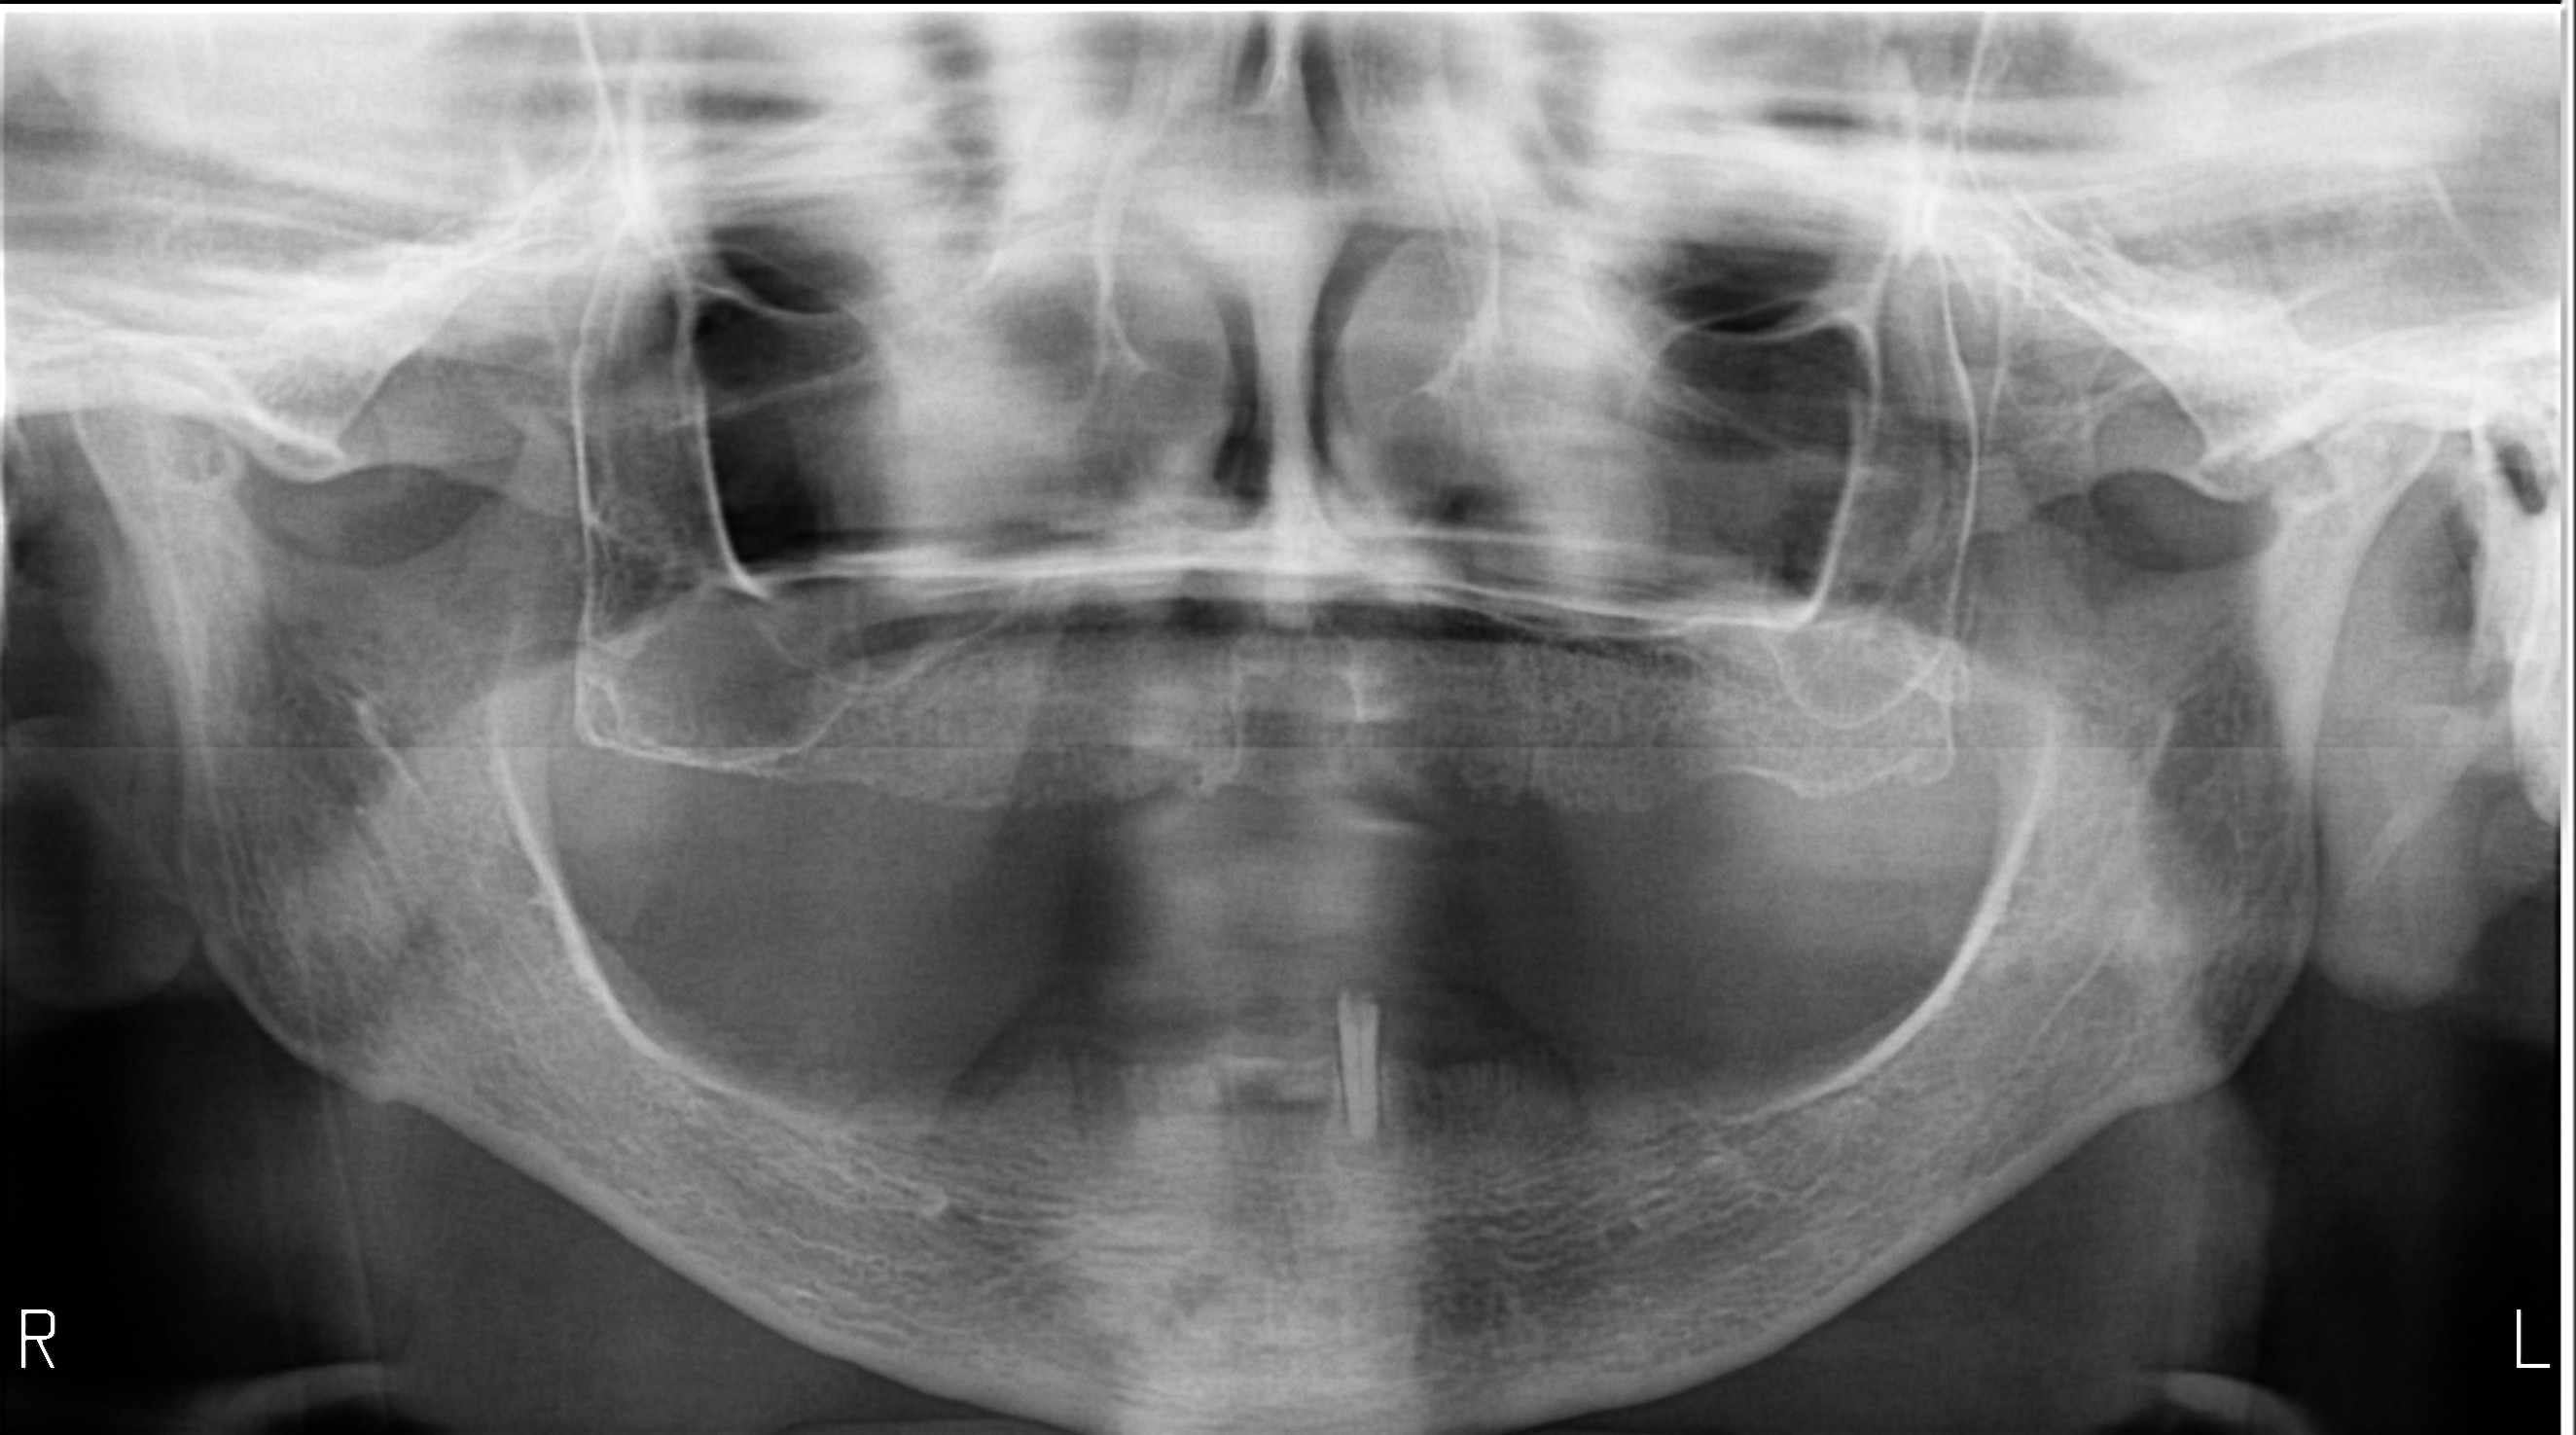API: (1325, 1110, 1415, 1193)
ROT: (1313, 981, 1392, 1129)
